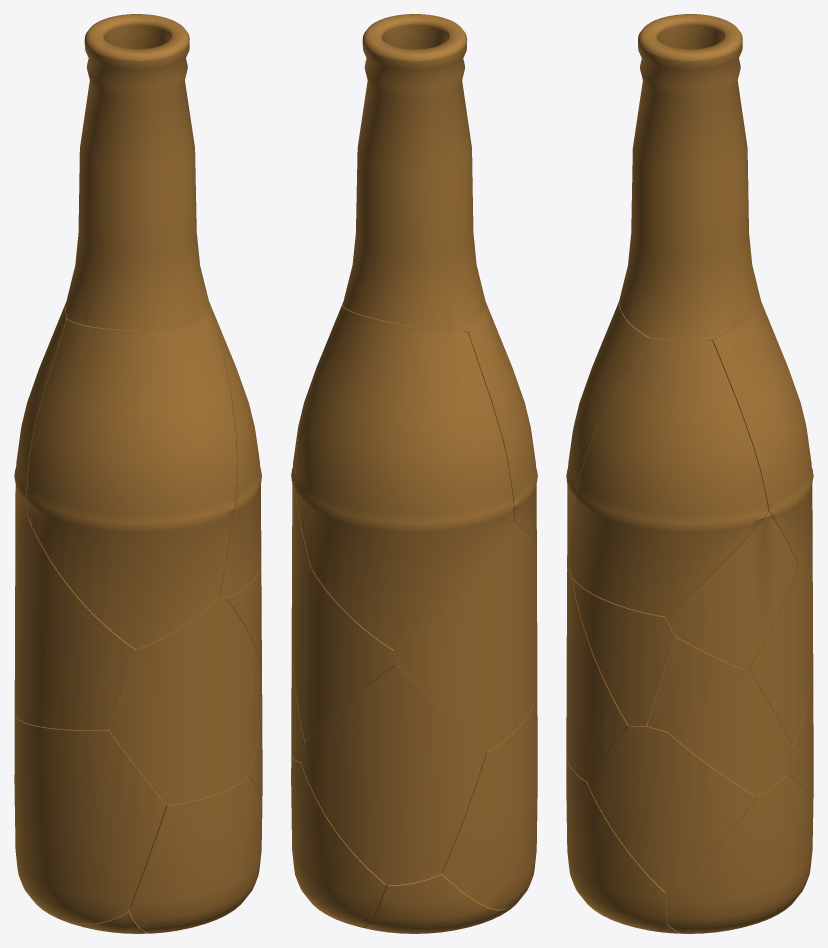
The model's file is bottle_longneck_shards.glb.
3 renders of one model, left to right at view 1: azimuth 30°, elevation 25°; view 2: azimuth 150°, elevation 25°; view 3: azimuth 270°, elevation 25°, orthographic.
Visible parts, largest first — view 1: Shard_02, Shard_00, Shard_05, Shard_09, Shard_06, Shard_07, Shard_04, Shard_01, Shard_15, Shard_03, Shard_11; view 2: Shard_01, Shard_00, Shard_10, Shard_06, Shard_05, Shard_12, Shard_08, Shard_02, Shard_03, Shard_13, Shard_14; view 3: Shard_04, Shard_00, Shard_11, Shard_08, Shard_01, Shard_13, Shard_14, Shard_07, Shard_15, Shard_12, Shard_09, Shard_02 (+2 smaller).
Boxes of the visible parts, x1,y1,x2,y2 form: Shard_02: (25, 313, 236, 649); Shard_00: (66, 14, 212, 329); Shard_05: (14, 717, 166, 923); Shard_09: (109, 598, 261, 805); Shard_06: (14, 515, 136, 730); Shard_07: (129, 777, 262, 933); Shard_04: (211, 307, 261, 598); Shard_01: (14, 301, 67, 531); Shard_15: (219, 564, 261, 677); Shard_03: (16, 861, 153, 933); Shard_11: (249, 688, 262, 804); Shard_01: (294, 304, 514, 649); Shard_00: (342, 14, 485, 331); Shard_10: (301, 665, 486, 884); Shard_06: (394, 523, 537, 752); Shard_05: (442, 687, 537, 909); Shard_12: (291, 569, 396, 741); Shard_08: (291, 757, 386, 927); Shard_02: (465, 300, 537, 551); Shard_03: (364, 873, 517, 933); Shard_13: (291, 482, 311, 619); Shard_14: (291, 630, 306, 762); Shard_04: (569, 338, 768, 616); Shard_00: (619, 14, 759, 339); Shard_11: (587, 722, 756, 892); Shard_08: (666, 774, 813, 933); Shard_01: (710, 293, 813, 574); Shard_13: (665, 512, 797, 669); Shard_14: (667, 669, 792, 796); Shard_07: (566, 755, 667, 931); Shard_15: (572, 577, 674, 725); Shard_12: (748, 565, 812, 746); Shard_09: (566, 569, 629, 781); Shard_02: (566, 300, 654, 569).
Size of the model in its own units: 0.0627 by 0.2393 by 0.0627.
